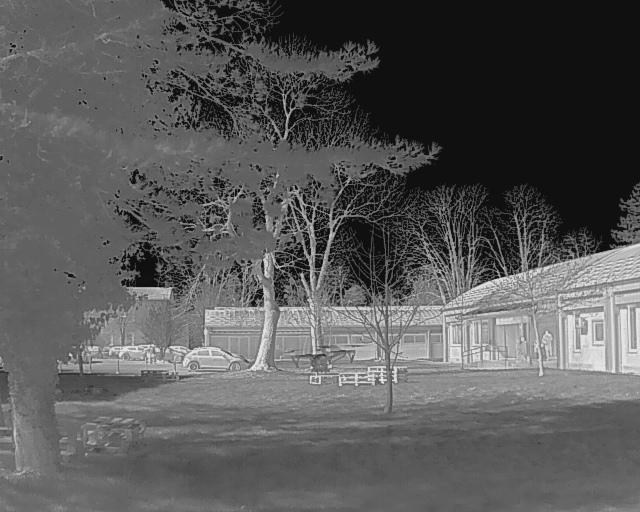drone: (284, 340, 365, 372)
